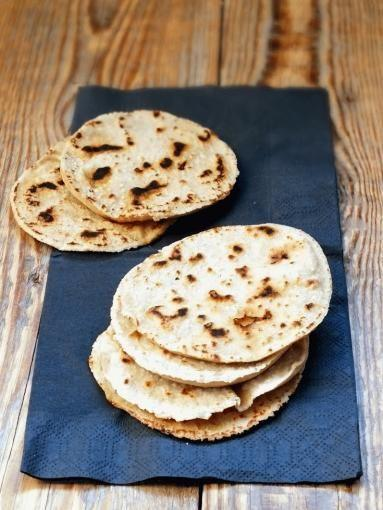roti phulka: (90, 219, 335, 441)
